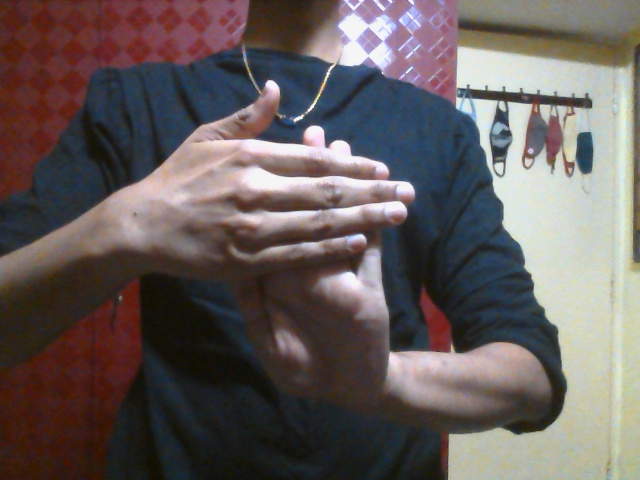H: (144, 81, 413, 412)
